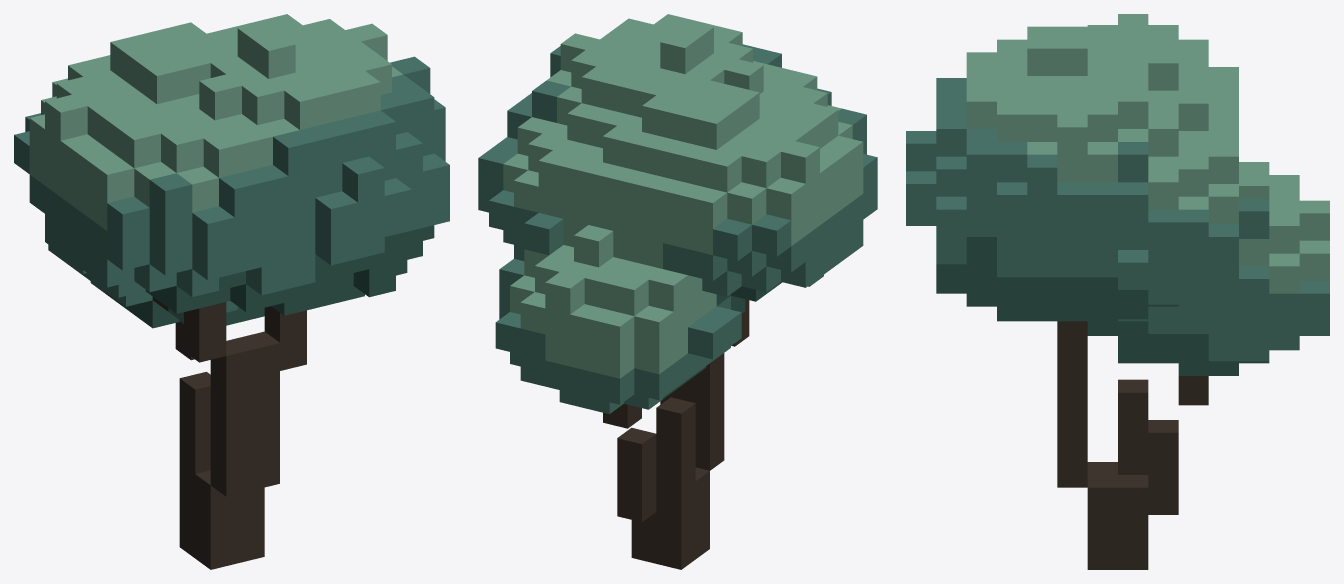
File: dense_bush_v2_species1_mid.glb
3 renders of one model, left to right at view 1: azimuth 30°, elevation 25°; view 2: azimuth 150°, elevation 25°; view 3: azimuth 270°, elevation 25°, orthographic. The views are drawn at different scales.
Parts seen in each view (by area): view 1: dense_bush_v2_species1_mid; view 2: dense_bush_v2_species1_mid; view 3: dense_bush_v2_species1_mid.
Part boxes in pixels (<box>): dense_bush_v2_species1_mid: <box>14,14,449,569</box>; dense_bush_v2_species1_mid: <box>478,14,877,569</box>; dense_bush_v2_species1_mid: <box>906,14,1329,569</box>.
Size of the model in its own units: 1.62 by 2.38 by 1.75.
1 material, 1 textured.
